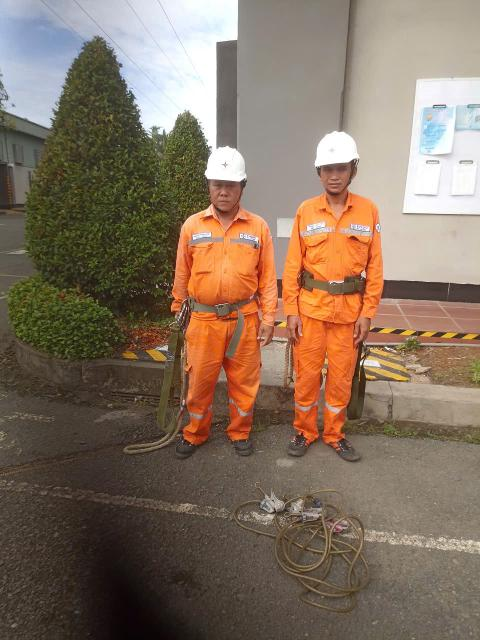harness: (175, 290, 272, 328), (284, 265, 377, 298)
helmet: (308, 128, 362, 179), (201, 145, 257, 190)
shoes: (326, 426, 368, 468), (171, 434, 202, 462), (288, 430, 317, 458), (230, 433, 262, 457)
